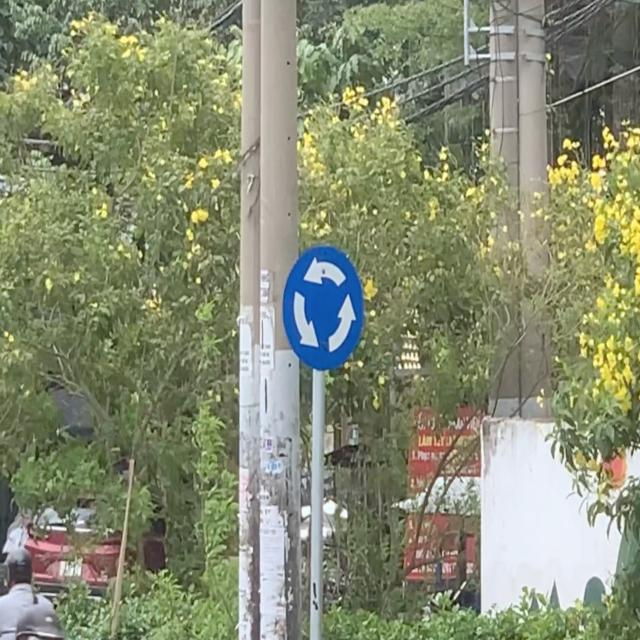Vong xuyen: (281, 245, 364, 372)
